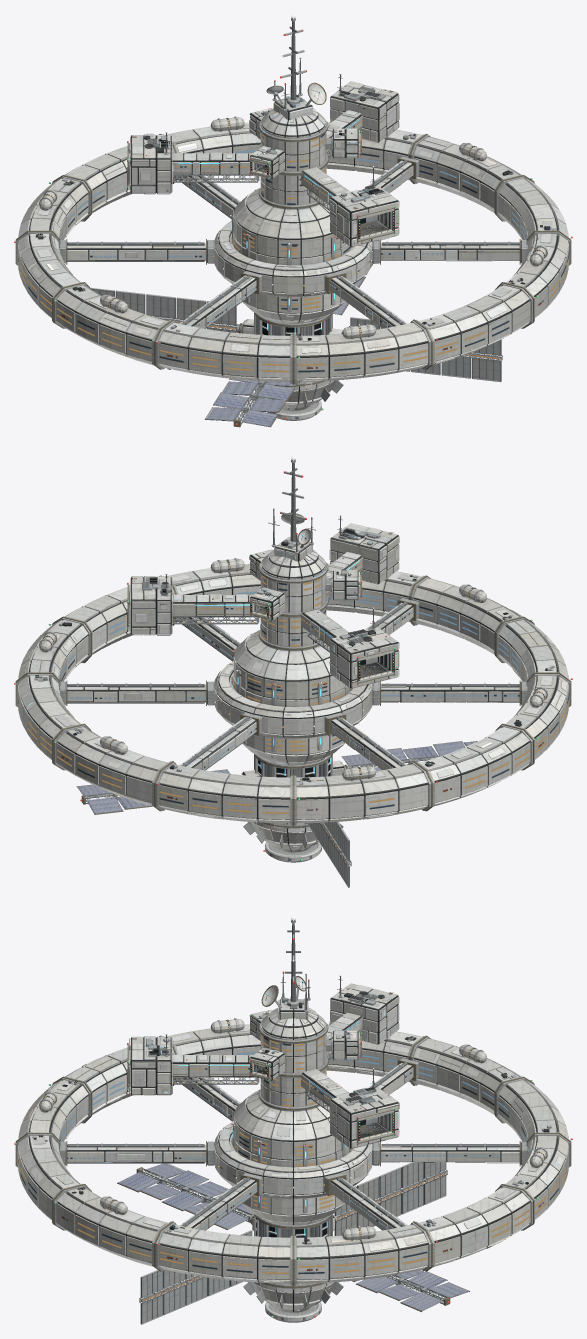
Rendered from frontier_station.glb.
3 renders of one model, top to bottom at view 1: azimuth 30°, elevation 25°; view 2: azimuth 150°, elevation 25°; view 3: azimuth 270°, elevation 25°, orthographic.
Visible parts, largest first — view 1: Ring, Hull_2, Hull_1, Hull_0, Lights; view 2: Ring, Hull_2, Hull_1, Hull_0, Lights; view 3: Ring, Hull_2, Hull_1, Hull_0, Lights.
Boxes of the visible parts, x1=… form: Ring: x1=14, y1=116, x2=572, y2=384; Hull_2: x1=128, y1=85, x2=399, y2=426; Hull_1: x1=90, y1=17, x2=502, y2=427; Hull_0: x1=92, y1=21, x2=501, y2=424; Lights: x1=127, y1=14, x2=500, y2=425; Ring: x1=14, y1=558, x2=572, y2=826; Hull_2: x1=77, y1=527, x2=477, y2=861; Hull_1: x1=76, y1=459, x2=476, y2=887; Hull_0: x1=84, y1=463, x2=443, y2=886; Lights: x1=80, y1=456, x2=395, y2=863; Ring: x1=14, y1=1018, x2=572, y2=1286; Hull_2: x1=118, y1=983, x2=468, y2=1321; Hull_1: x1=117, y1=919, x2=469, y2=1324; Hull_0: x1=127, y1=923, x2=447, y2=1323; Lights: x1=127, y1=916, x2=449, y2=1317.
Bounding box in the file's own units: 220 × 173 × 220.
3 materials, 2 textured.
